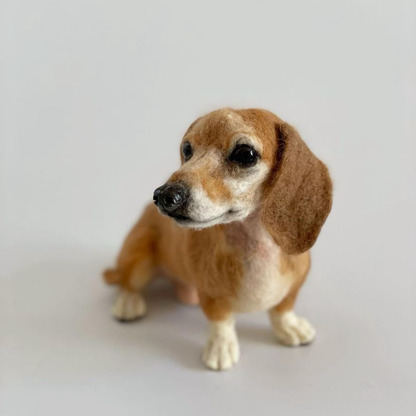dachshund: (103, 98, 333, 376)
